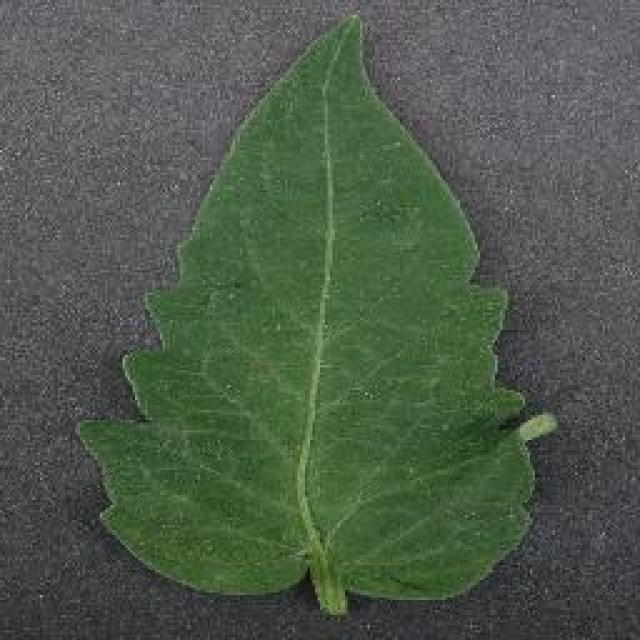Healthy: (65, 2, 573, 640)
